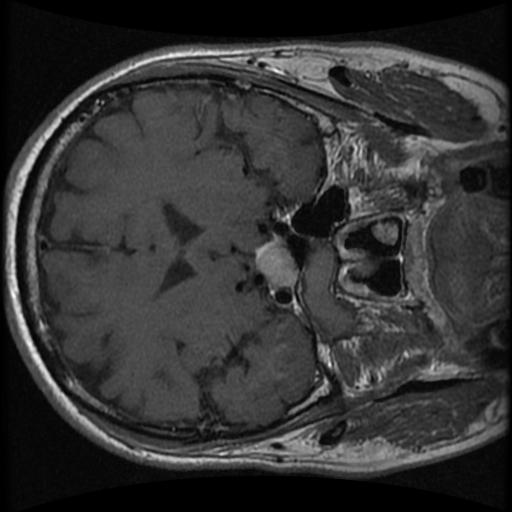pituitary tumour: (256, 240, 300, 287)
